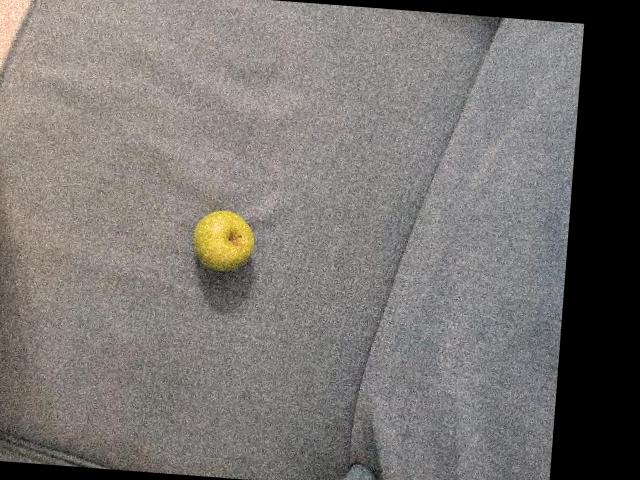apple: (168, 193, 265, 275)
